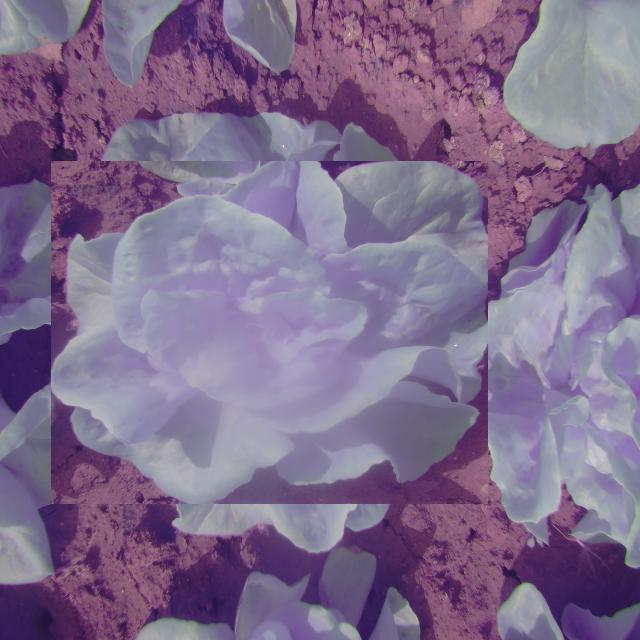vege: (74, 137, 466, 528)
